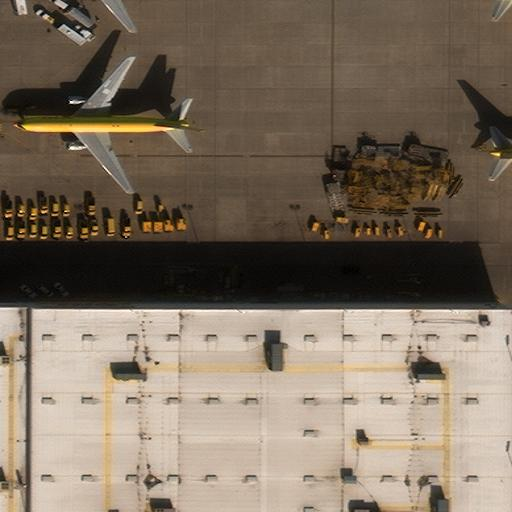Large Civil Transport: (15, 58, 190, 191), (75, 0, 157, 32)
